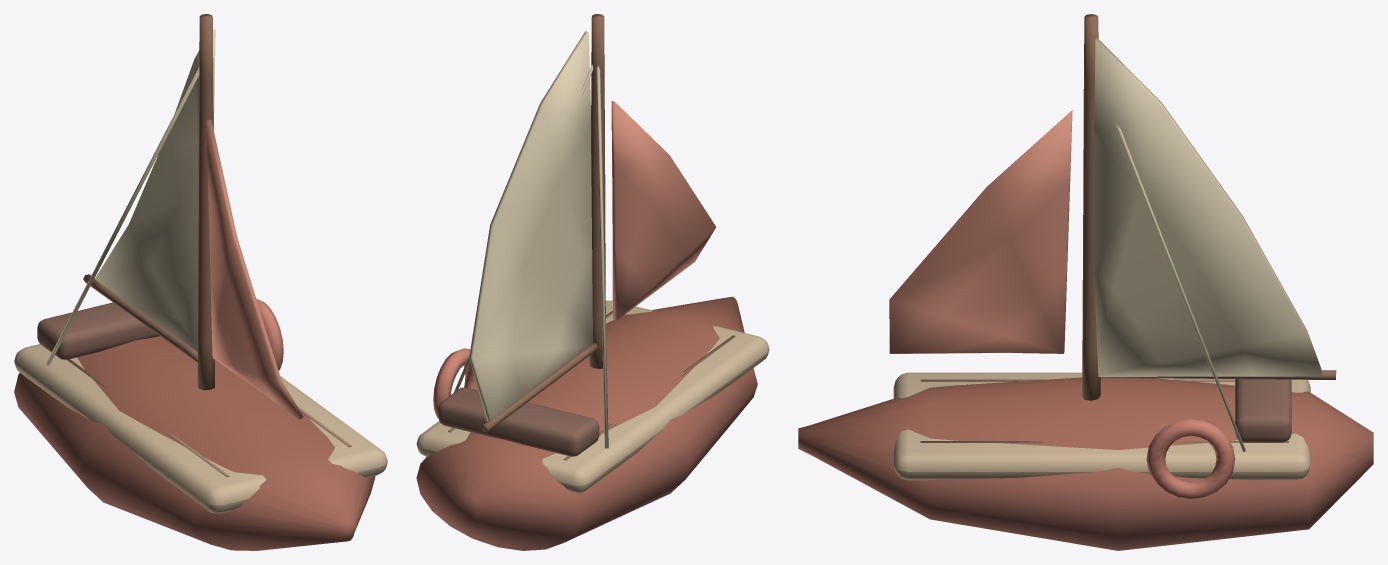
The model's file is boat.glb.
The picture shows the model from 3 angles, left to right: view 1: azimuth 30°, elevation 25°; view 2: azimuth 150°, elevation 25°; view 3: azimuth 270°, elevation 25°; orthographic projection. The views are drawn at different scales.
Visible parts, largest first — view 1: food_boat_painted_mesh; view 2: food_boat_painted_mesh; view 3: food_boat_painted_mesh.
Part boxes in pixels (bbox=[...]): food_boat_painted_mesh: bbox=[14, 14, 387, 550]; food_boat_painted_mesh: bbox=[416, 14, 769, 550]; food_boat_painted_mesh: bbox=[798, 14, 1373, 550].
Bounding box in the file's own units: 0.98 × 2.11 × 2.14.
